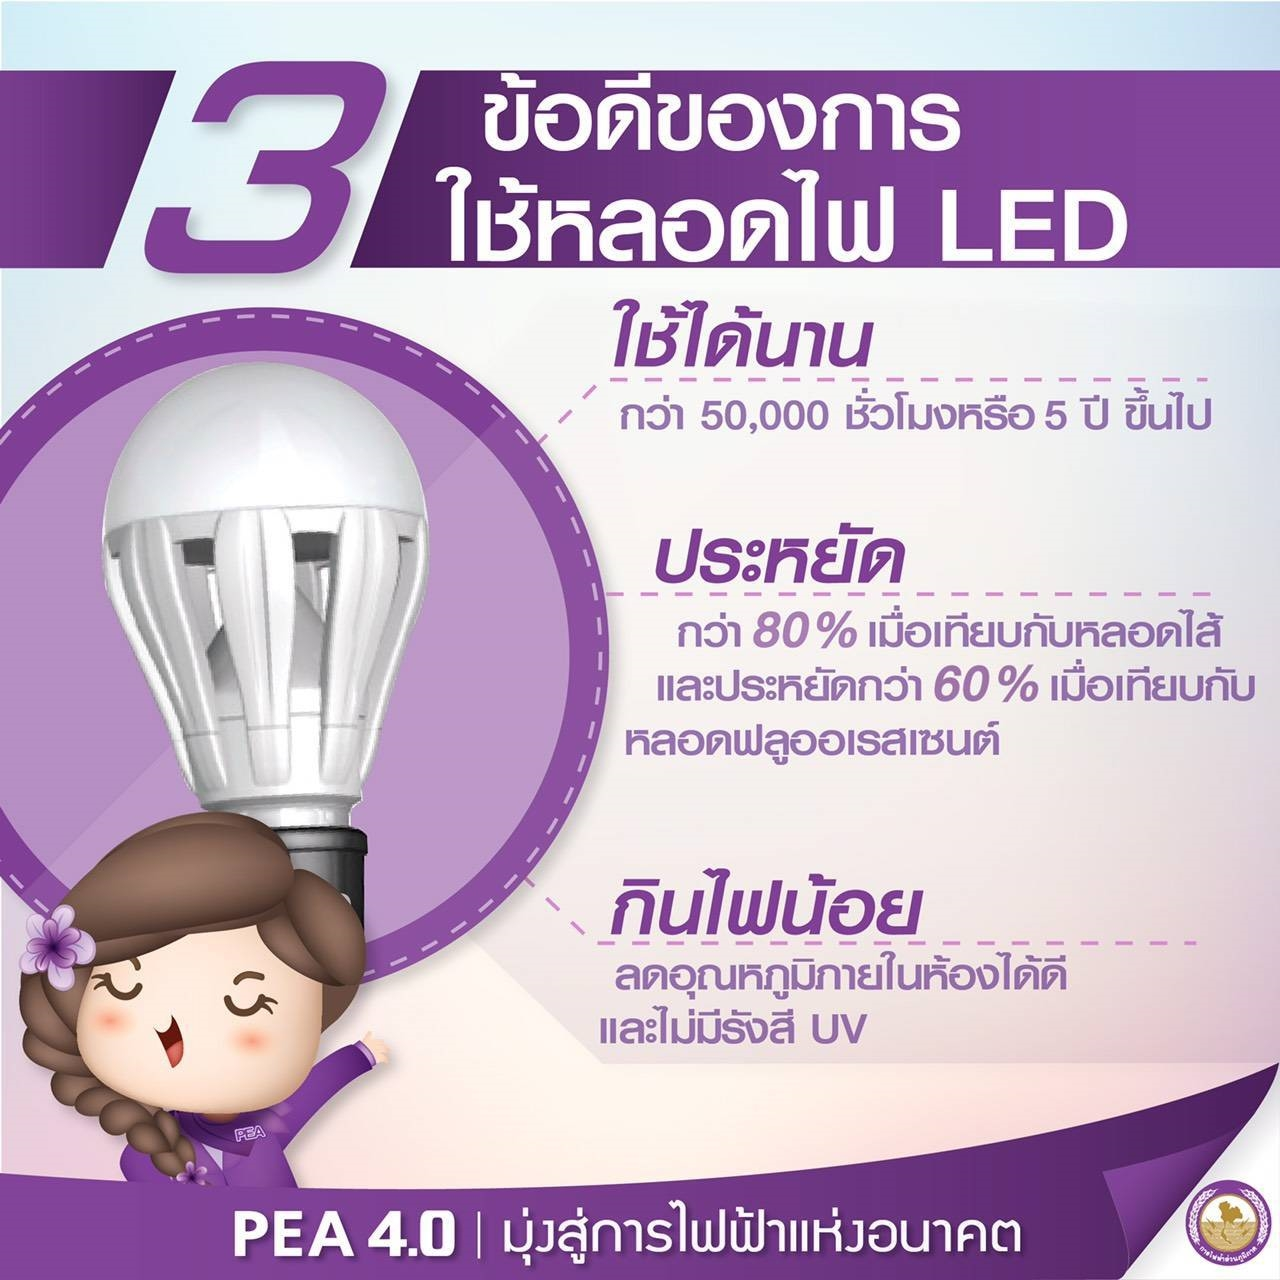Light_bulb: (105, 345, 451, 903)
